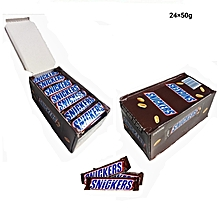snickers: (168, 106, 199, 135), (73, 100, 104, 128), (82, 160, 121, 182), (64, 94, 93, 119), (143, 91, 175, 113), (73, 100, 97, 129), (57, 86, 85, 109), (51, 80, 78, 100), (166, 83, 195, 100), (51, 80, 75, 100), (88, 178, 133, 188), (43, 77, 70, 93), (43, 77, 69, 93), (43, 79, 71, 93), (37, 73, 64, 85), (33, 69, 55, 81), (33, 71, 58, 81)
